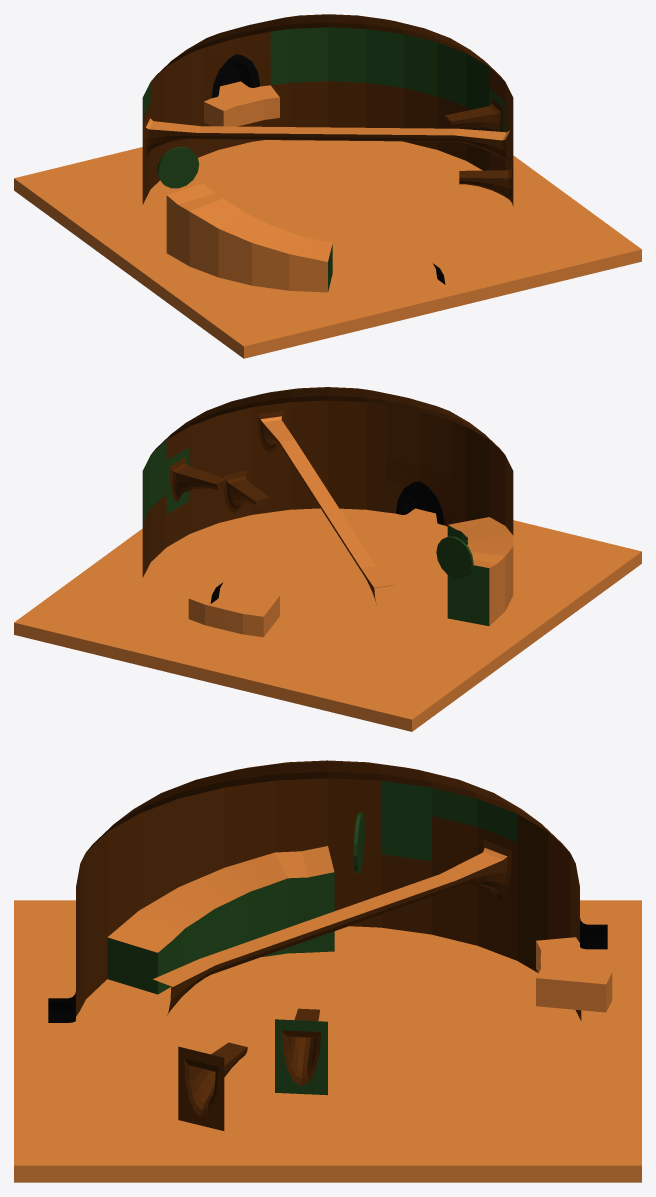
The model's file is TreeInside.fbx.
3 renders of one model, top to bottom at view 1: azimuth 30°, elevation 25°; view 2: azimuth 150°, elevation 25°; view 3: azimuth 270°, elevation 25°, orthographic. The views are drawn at different scales.
Visible parts, largest first — view 1: Floor, Enviroment, InternalWoodPlatform.009, Ramp, InternalWoodPlatform.004, Exit, InternalWoodPlatform.012, InternalWoodPlatform.008, TresspassingVine, InternalWoodPlatform.007, InternalWoodPlatform.006; view 2: Floor, Enviroment, InternalWoodPlatform.008, Ramp, Entance, InternalWoodPlatform.012, VineClimb.001, InternalWoodPlatform.004, InternalWoodPlatform.006, InternalWoodPlatform.009, InternalWoodPlatform.007, TresspassingVine (+1 smaller); view 3: Floor, Enviroment, VineClimb.001, Ramp, VineClimb, InternalWoodPlatform.004, InternalWoodPlatform.008, InternalWoodPlatform.012, InternalWoodPlatform.006, VineClimb.002, InternalWoodPlatform.007, Exit (+2 smaller).
Part boxes in pixels (x1,y1,x2,y2): Floor: (14,140,641,358); Enviroment: (142,14,513,204); InternalWoodPlatform.009: (270,27,489,109); Ramp: (166,183,332,292); InternalWoodPlatform.004: (142,103,507,171); Exit: (204,31,270,101); InternalWoodPlatform.012: (146,118,509,140); InternalWoodPlatform.008: (204,81,279,126); TresspassingVine: (157,147,199,188); InternalWoodPlatform.007: (444,97,503,131); InternalWoodPlatform.006: (459,163,513,206); Floor: (14,508,641,731); Enviroment: (142,387,513,577); InternalWoodPlatform.008: (188,582,279,637); Ramp: (448,517,513,625); Entance: (385,458,451,526); InternalWoodPlatform.012: (260,416,394,588); VineClimb.001: (447,525,489,625); InternalWoodPlatform.004: (252,404,376,603); InternalWoodPlatform.006: (218,461,269,522); InternalWoodPlatform.009: (142,440,166,523); InternalWoodPlatform.007: (169,457,226,501); TresspassingVine: (436,536,473,578); Floor: (14,900,641,1182); Enviroment: (76,760,581,1020); VineClimb.001: (107,872,334,994); Ramp: (107,846,334,952); VineClimb: (381,780,517,860); InternalWoodPlatform.004: (167,827,517,1014); InternalWoodPlatform.008: (536,937,612,1012); InternalWoodPlatform.012: (153,848,507,986); InternalWoodPlatform.006: (178,1042,247,1130); VineClimb.002: (275,1019,327,1095); InternalWoodPlatform.007: (282,1008,320,1085); Exit: (575,864,607,949).
Bounding box in the file's own units: 6800 × 2553 × 6800.
